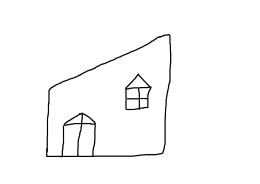closed_window: (121, 72, 159, 114)
door: (56, 105, 99, 164)
single_line_roof: (39, 27, 180, 96)
wall: (39, 76, 174, 162)
